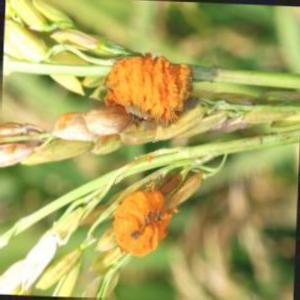False Smut: (114, 55, 186, 128), (109, 190, 178, 258)
